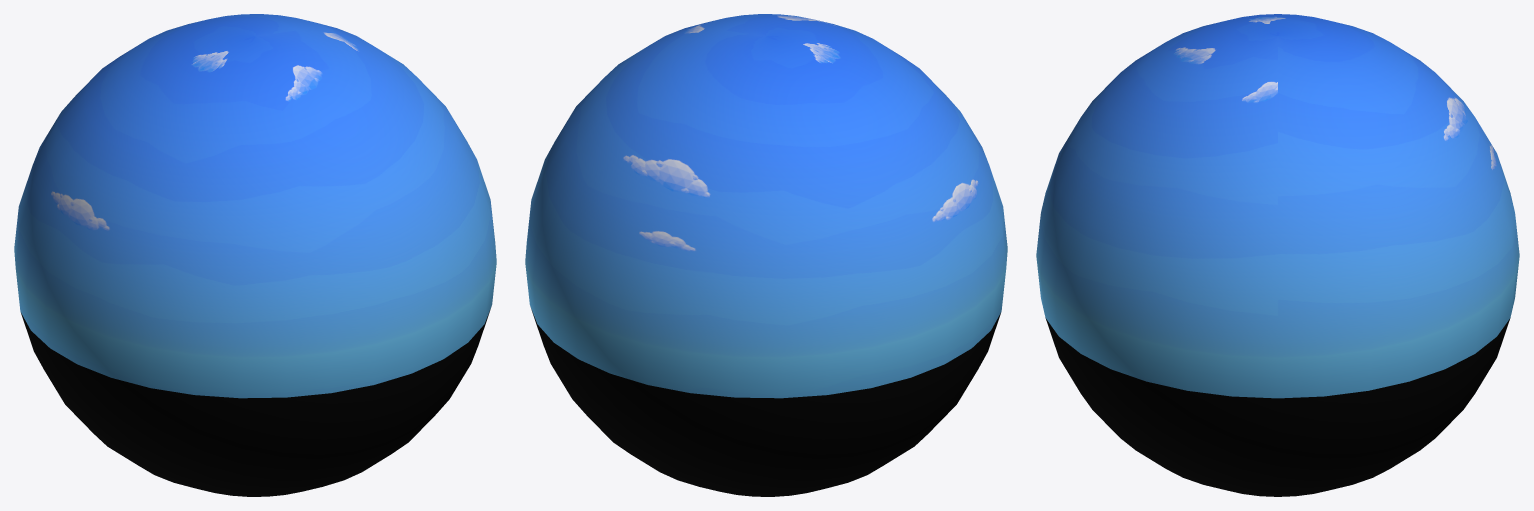
The model's file is map.obj.
3 renders of one model, left to right at view 1: azimuth 30°, elevation 25°; view 2: azimuth 150°, elevation 25°; view 3: azimuth 270°, elevation 25°, orthographic.
Visible parts, largest first — view 1: sky_nocol_textured; view 2: sky_nocol_textured; view 3: sky_nocol_textured.
Boxes of the visible parts, x1,y1,x2,y2 form: sky_nocol_textured: (14,14,496,496); sky_nocol_textured: (525,14,1007,496); sky_nocol_textured: (1036,14,1519,496).
Size of the model in its own units: 1485 by 1485 by 1485.
Materials: 13 (8 with a texture image).
